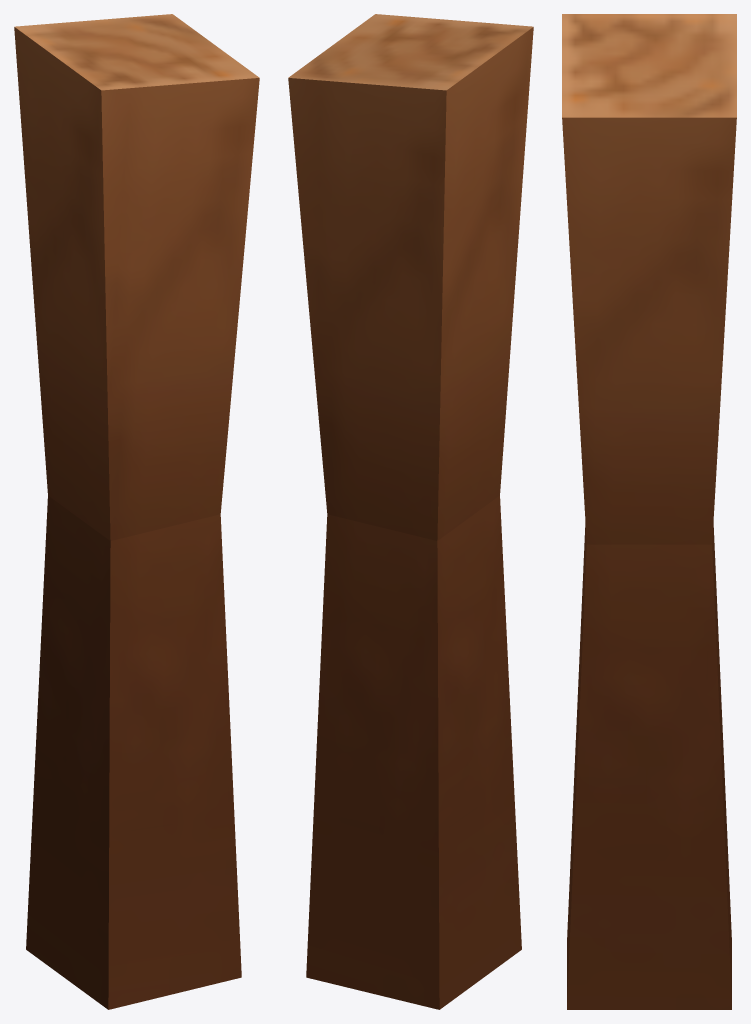
The model's file is fence_04.fbx.
3 renders of one model, left to right at view 1: azimuth 30°, elevation 25°; view 2: azimuth 150°, elevation 25°; view 3: azimuth 270°, elevation 25°, orthographic.
Parts seen in each view (by area): view 1: Cube.012; view 2: Cube.012; view 3: Cube.012.
Boxes of the visible parts, x1,y1,x2,y2 form: Cube.012: [14, 14, 259, 1009]; Cube.012: [288, 14, 533, 1009]; Cube.012: [562, 14, 736, 1009].
Size of the model in its own units: 18.33 by 102 by 17.47.
